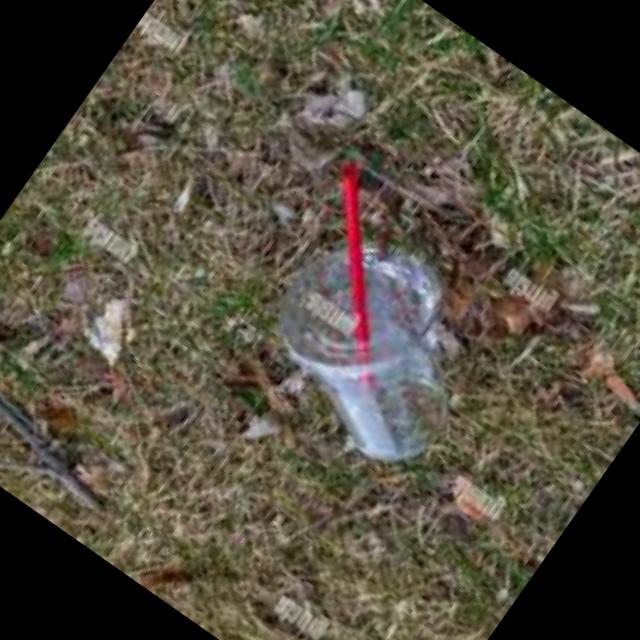GelasPlastik: (210, 152, 542, 488)
